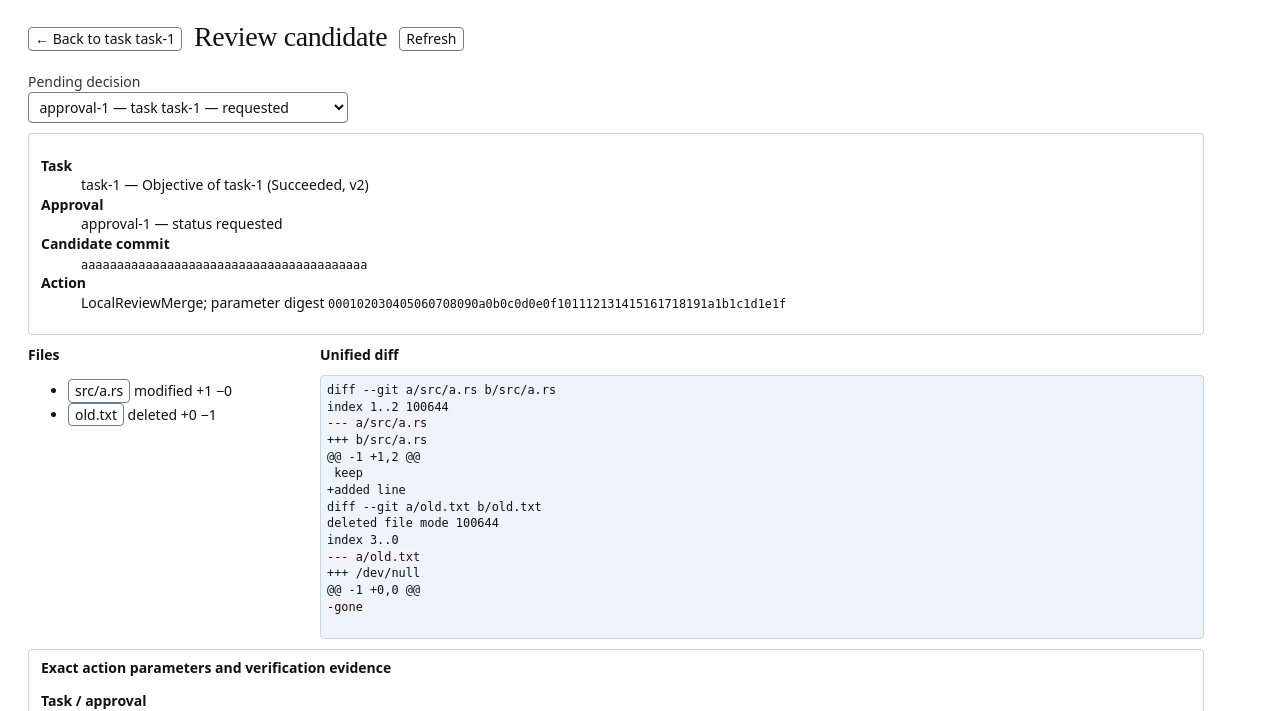
S6 identity, diff and navigation › falls back to the loaded full diff for a deleted file the daemon cannot scope
The width and height of the screenshot is (1280, 711).
Click the button "old.txt" at (96, 414), box left=68, top=403, right=124, bottom=426
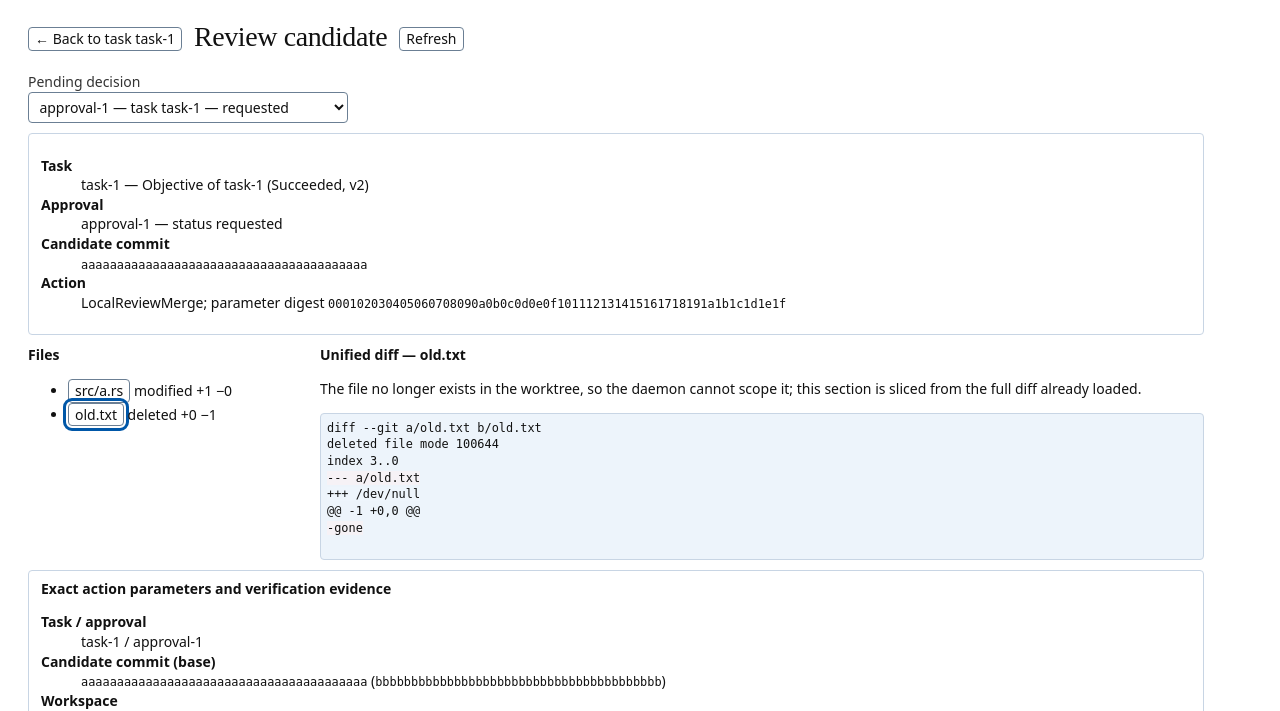
Check: the element named "Diff content" shows "-gone", box left=327, top=521, right=363, bottom=535
Check: the text "no longer exists in the worktree" is shown, box left=320, top=379, right=1141, bottom=398
